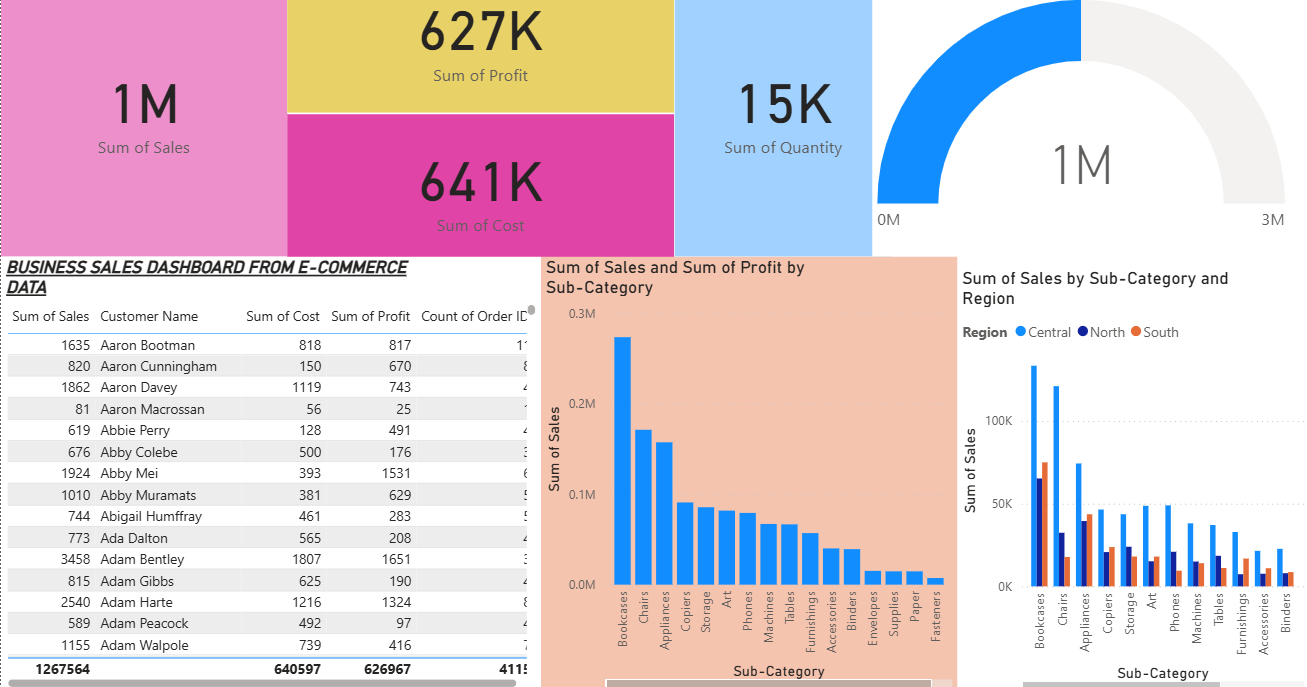

Layout of this report page (visuals, bound fields, positions):
{"tool":"powerbi","page":{"name":"Page 1","canvas":[1280,720],"ordinal":0},"visuals":[{"type":"card","fields":{"Values":["List of Orders.Sales"]},"box":[0,0,279.9,292.3],"z":0},{"type":"card","fields":{"Values":["List of Orders.Profit"]},"box":[279.9,0,378.7,150.9],"z":1000},{"type":"card","fields":{"Values":["List of Orders.Cost"]},"box":[279.9,152.3,378.7,140],"z":2000},{"type":"card","fields":{"Values":["List of Orders.Quantity"]},"box":[658.7,0,212.7,292.3],"z":3000},{"type":"tableEx","title":"BUSINESS SALES DASHBOARD FROM E-COMMERCE DATA","fields":{"Values":["List of Orders.Sales","List of Orders.Customer Name","List of Orders.Cost","List of Orders.Profit","List of Orders.Order ID"]},"box":[0,292.3,528.3,426.8],"z":4000},{"type":"gauge","fields":{"Y":["List of Orders.Sales"]},"box":[852.1,0,408.9,292.3],"z":5000},{"type":"clusteredColumnChart","fields":{"Category":["List of Orders.Sub-Category"],"Y":["List of Orders.Sales"],"Series":["List of Orders.Region"]},"box":[935.9,303.3,344.4,417.2],"z":6000},{"type":"clusteredColumnChart","fields":{"Category":["List of Orders.Sub-Category"],"Y":["List of Orders.Sales"]},"box":[528.3,292.3,407.5,426.8],"z":7000},{"type":"actionButton","box":[0,0,100,40],"z":9000}]}

Visuals, with their boxes on the page's 1280x720 design canvas (x1, y1, x2, y2). These are canvas units, not pixel positions in the 1307x687 screenshot, which may show the page scaled, cropped or inside an application window:
card - List of Orders.Sales: {"x1": 0, "y1": 0, "x2": 280, "y2": 292}
card - List of Orders.Profit: {"x1": 280, "y1": 0, "x2": 659, "y2": 151}
card - List of Orders.Cost: {"x1": 280, "y1": 152, "x2": 659, "y2": 292}
card - List of Orders.Quantity: {"x1": 659, "y1": 0, "x2": 871, "y2": 292}
"BUSINESS SALES DASHBOARD FROM E-COMMERCE DATA" tableEx: {"x1": 0, "y1": 292, "x2": 528, "y2": 719}
gauge - List of Orders.Sales: {"x1": 852, "y1": 0, "x2": 1261, "y2": 292}
clusteredColumnChart - List of Orders.Sub-Category x List of Orders.Sales: {"x1": 936, "y1": 303, "x2": 1280, "y2": 720}
clusteredColumnChart - List of Orders.Sub-Category x List of Orders.Sales: {"x1": 528, "y1": 292, "x2": 936, "y2": 719}
actionButton: {"x1": 0, "y1": 0, "x2": 100, "y2": 40}
